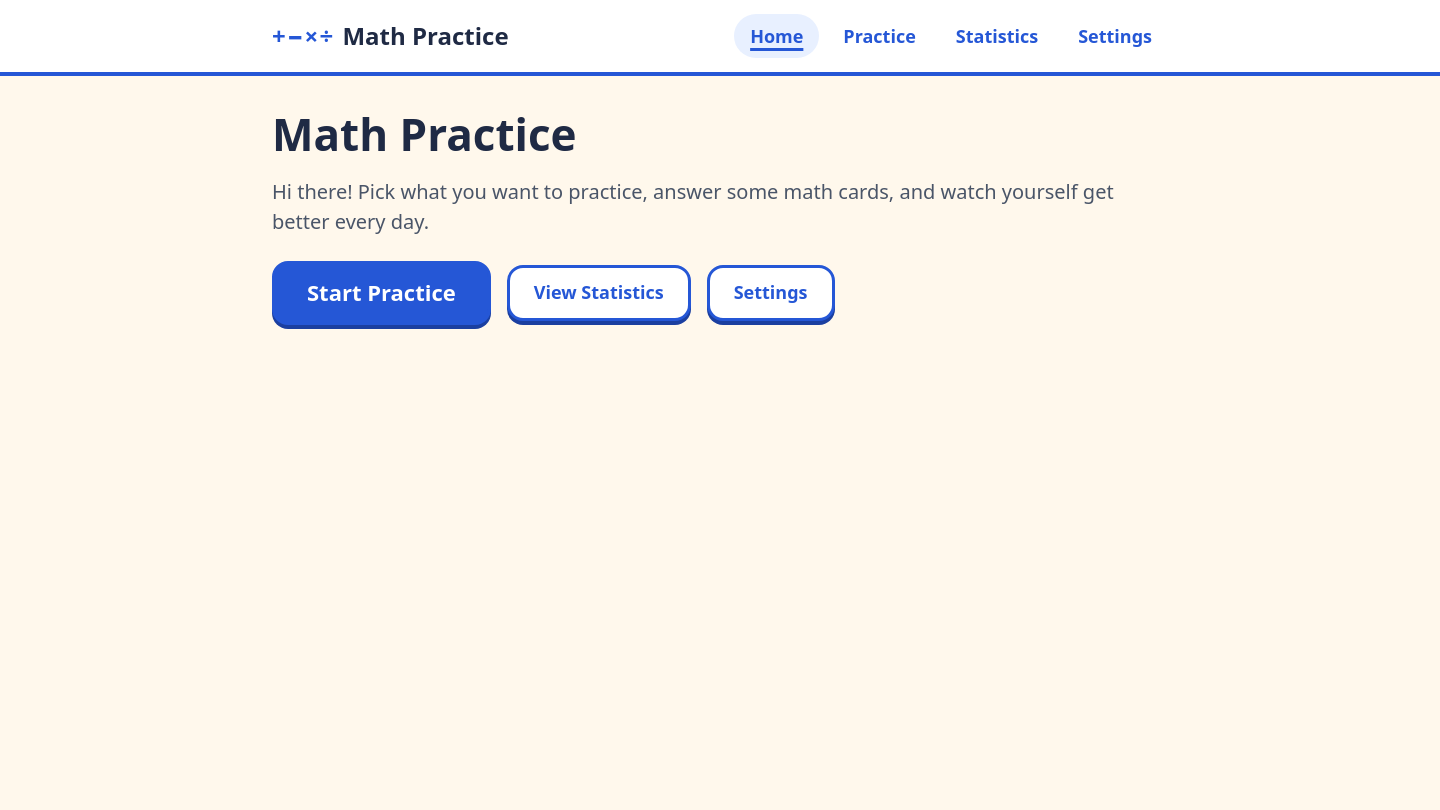
Test: Home page › Settings opens /settings
The image size is (1440, 810).
What coordinates should you click on to do the following:
click the link "Settings" next to "View Statistics"
I would click on:
 (771, 293)
Its box is [707,265,834,321].
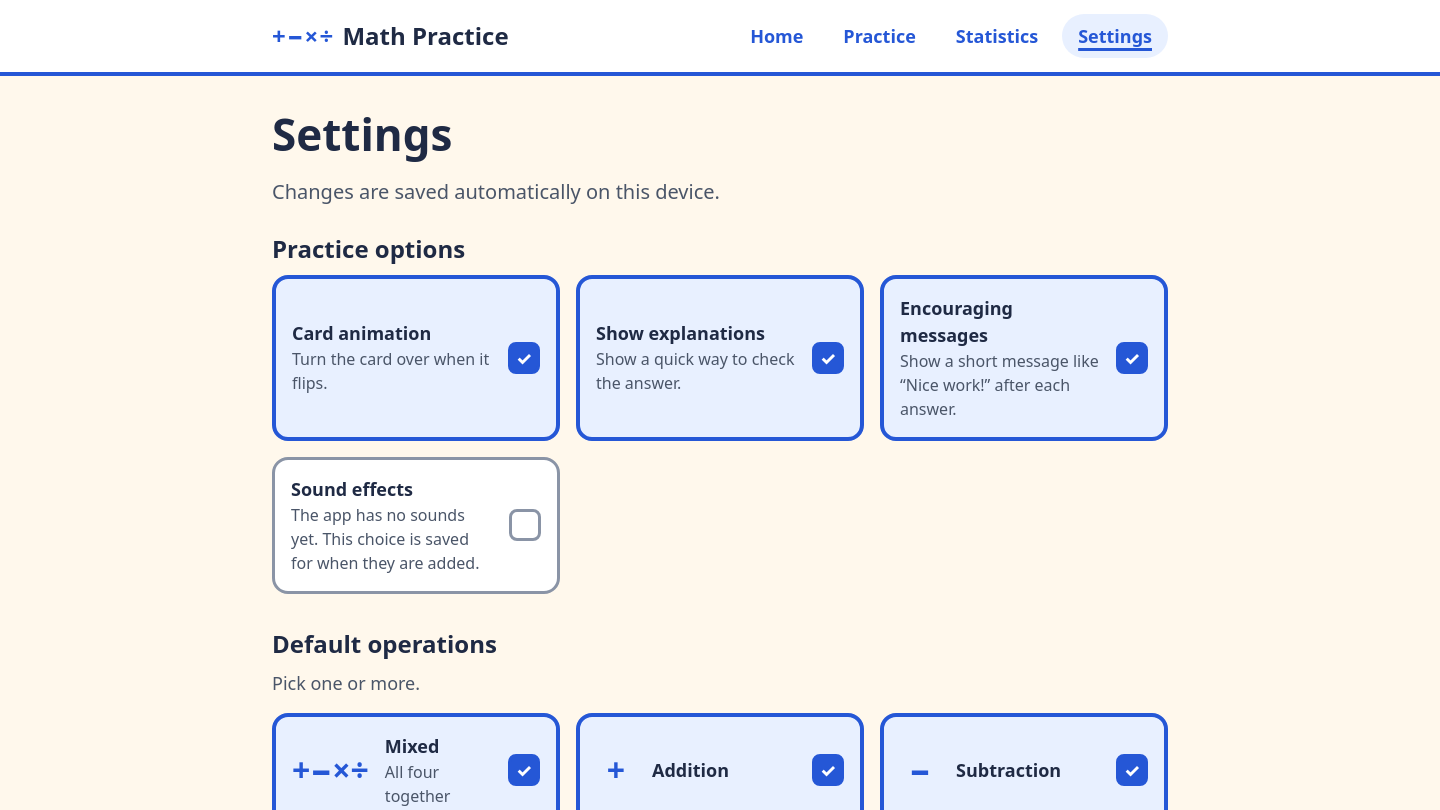
Now the heading "Settings" is shown, box [272,104,452,164]
